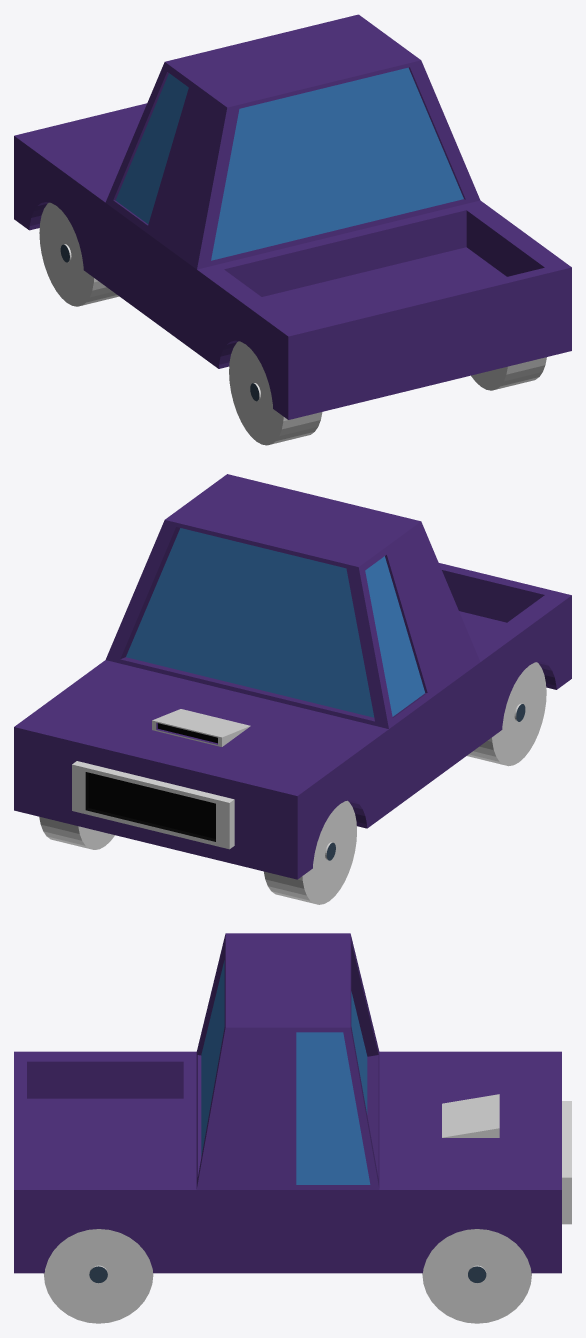
The model's file is PurpleCar.fbx.
3 renders of one model, top to bottom at view 1: azimuth 30°, elevation 25°; view 2: azimuth 150°, elevation 25°; view 3: azimuth 270°, elevation 25°, orthographic.
Visible parts, largest first — view 1: Car, BackLeftWheel.001, BackLeftWheel, BackRightWheel; view 2: Car, BackLeftWheel, BackLeftWheel.001, FrontRightWheel; view 3: Car, FrontRightWheel, BackRightWheel.
Boxes of the visible parts, x1,y1,x2,y2 form: Car: [14, 14, 571, 419]; BackLeftWheel.001: [229, 341, 322, 445]; BackLeftWheel: [39, 202, 119, 306]; BackRightWheel: [471, 357, 546, 390]; Car: [14, 474, 571, 879]; BackLeftWheel: [263, 800, 356, 904]; BackLeftWheel.001: [467, 662, 546, 766]; FrontRightWheel: [39, 816, 114, 849]; Car: [14, 933, 571, 1273]; FrontRightWheel: [422, 1229, 531, 1323]; BackRightWheel: [43, 1229, 153, 1323].
Bounding box in the file's own units: 4.64 × 4.36 × 7.91.
